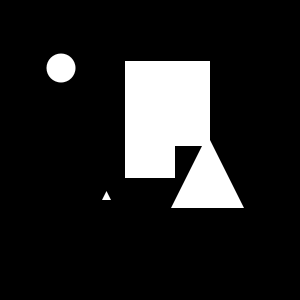circle: (125, 61, 210, 146), (125, 128, 175, 178)
rectangle: (46, 53, 76, 82)
triangle: (171, 135, 244, 208), (102, 191, 111, 200)
